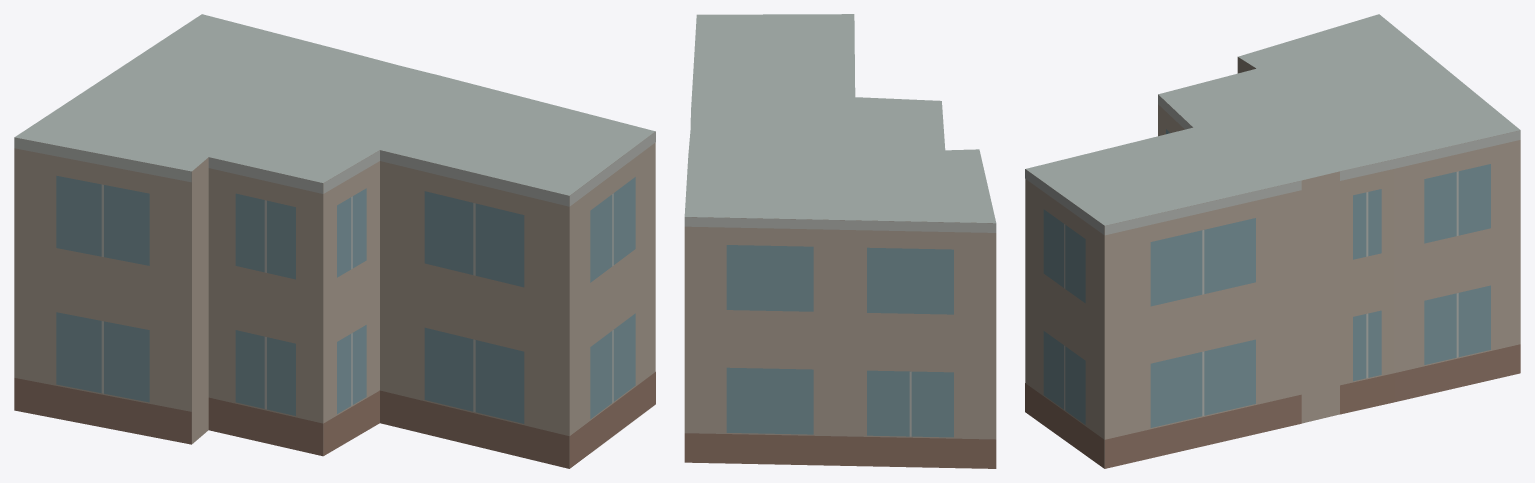
File: survey-upis-33030160.glb
3 views of the same model, side by side, from view 1: azimuth 30°, elevation 25°; view 2: azimuth 150°, elevation 25°; view 3: azimuth 270°, elevation 25° (orthographic). The views are drawn at different scales.
Parts seen in each view (by area): view 1: survey-upis-33030160.tmp; view 2: survey-upis-33030160.tmp; view 3: survey-upis-33030160.tmp.
Boxes of the visible parts, <box> form: survey-upis-33030160.tmp: <box>14,14,655,468</box>; survey-upis-33030160.tmp: <box>684,14,996,468</box>; survey-upis-33030160.tmp: <box>1025,14,1520,468</box>.
Bounding box in the file's own units: 11.4 × 6.1 × 11.27.
